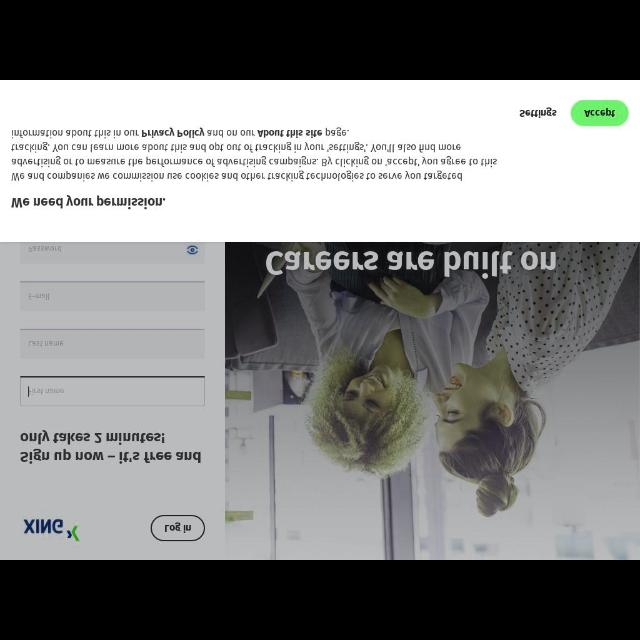backgroundimage: (224, 242, 636, 558)
icon: (184, 243, 200, 255)
iframe: (2, 84, 638, 240)
image: (24, 516, 82, 540)
input: (20, 374, 208, 406), (20, 280, 206, 312), (19, 328, 204, 358), (23, 238, 206, 268)
text: (9, 128, 497, 182), (266, 246, 556, 276), (19, 431, 204, 464), (11, 196, 165, 210), (520, 107, 558, 119), (27, 385, 64, 395), (27, 338, 63, 348), (164, 522, 192, 534), (584, 108, 614, 119), (28, 245, 62, 253), (26, 292, 49, 302)
textbutton: (572, 100, 628, 124), (152, 518, 206, 540)
